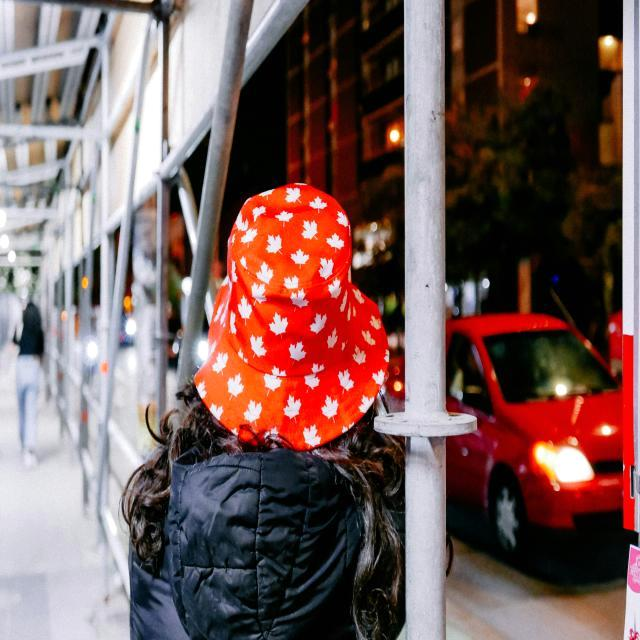no_hard_hat: (195, 184, 389, 450)
person: (121, 184, 405, 640)
